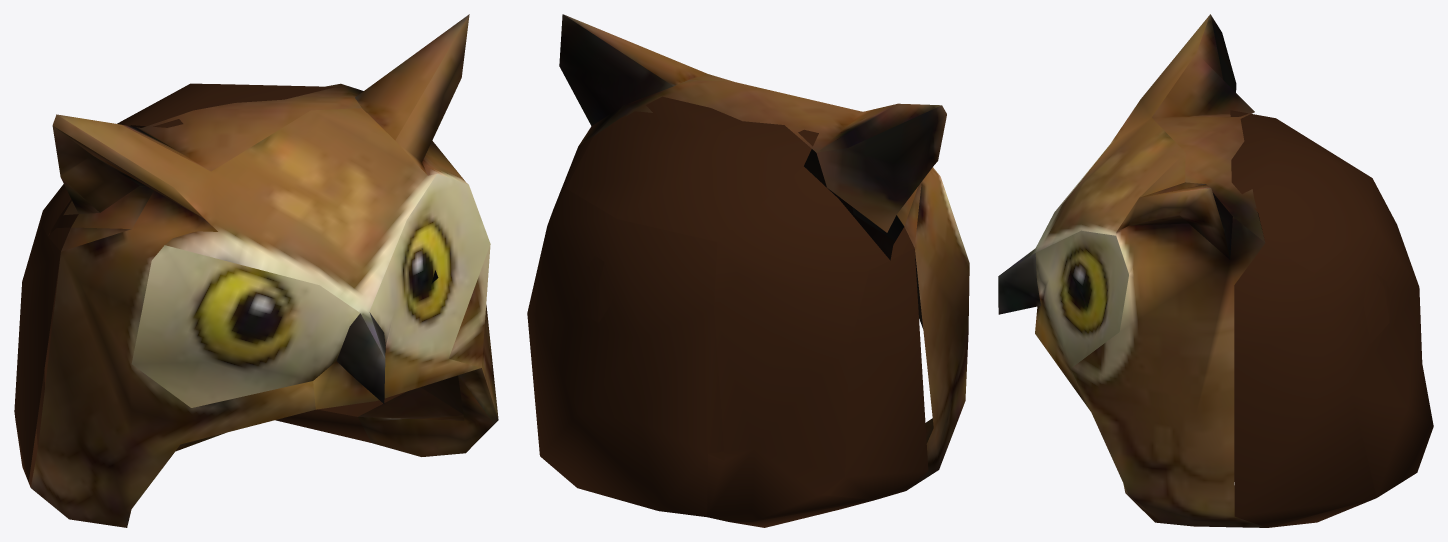
The model's file is owl.glb.
The picture shows the model from 3 angles, left to right: view 1: azimuth 30°, elevation 25°; view 2: azimuth 150°, elevation 25°; view 3: azimuth 270°, elevation 25°; orthographic projection. The views are drawn at different scales.
Visible parts, largest first — view 1: geometry_0; view 2: geometry_0; view 3: geometry_0.
Boxes of the visible parts, x1,y1,x2,y2 form: geometry_0: (14,14,498,527); geometry_0: (527,14,969,527); geometry_0: (998,14,1433,527).
Bounding box in the file's own units: 0.4769 × 0.4625 × 0.4915.
2 materials, 1 textured.
